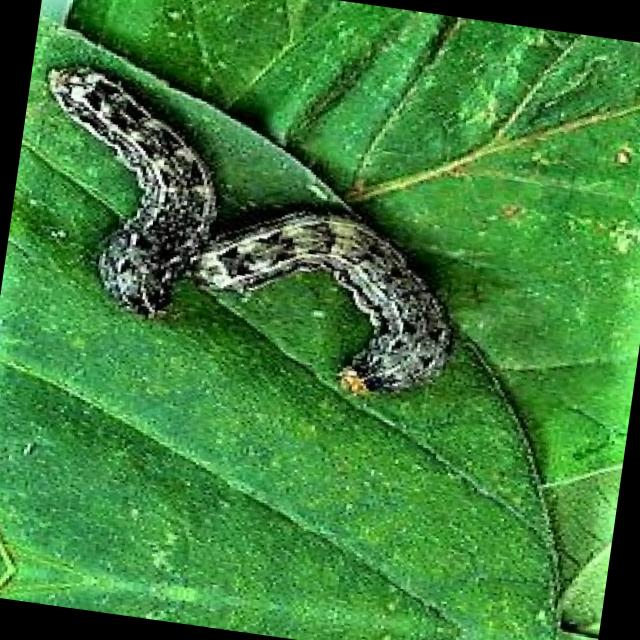Armyworm: (174, 173, 488, 421), (18, 50, 242, 347)
